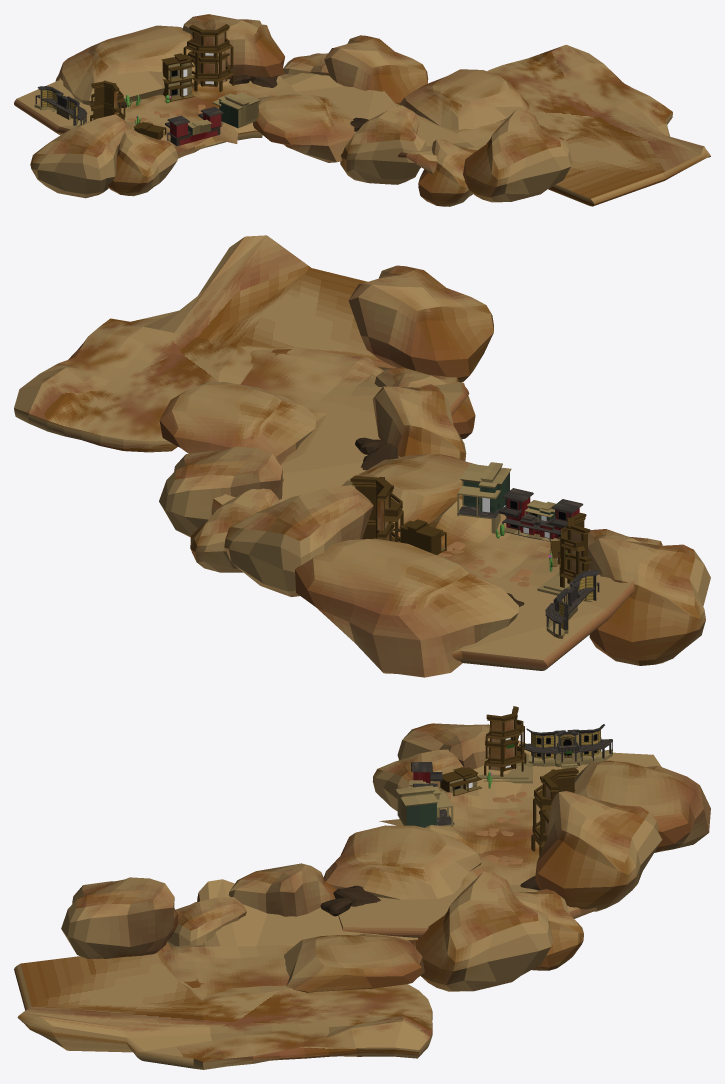
File: mapa.glb
3 views of the same model, one above another, from view 1: azimuth 30°, elevation 25°; view 2: azimuth 150°, elevation 25°; view 3: azimuth 270°, elevation 25° (orthographic). The views are drawn at different scales.
Visible parts, largest first — view 1: Cube.063, Cube.062, Cube.028, Cube.029, Cube.060, Cube.032, Cube.061, Cube.033, Cube.026, Cube.030, Cube.057, Cube.027 (+14 smaller); view 2: Cube.063, Cube.028, Cube.026, Cube.062, Cube.029, Cube.058, Cube.057, Cube.060, Cube.033, Cube.061, Cube.032, Cube.030 (+9 smaller); view 3: Cube.063, Cube.033, Cube.057, Cube.058, Cube.032, Cube.062, Cube.028, Cube.060, Cube.026, Cube.030, Cube.061, Cube.035 (+10 smaller).
Boxes of the visible parts, bbox=[...] form: Cube.063: bbox=[487, 44, 710, 206]; Cube.062: bbox=[463, 109, 572, 202]; Cube.028: bbox=[55, 25, 199, 105]; Cube.029: bbox=[30, 114, 131, 198]; Cube.060: bbox=[399, 69, 529, 129]; Cube.032: bbox=[253, 94, 354, 162]; Cube.061: bbox=[340, 105, 426, 184]; Cube.033: bbox=[324, 35, 428, 104]; Cube.026: bbox=[14, 78, 262, 158]; Cube.030: bbox=[192, 73, 397, 133]; Cube.057: bbox=[182, 14, 284, 79]; Cube.027: bbox=[107, 129, 178, 196]; Cube.063: bbox=[14, 235, 396, 452]; Cube.028: bbox=[295, 538, 518, 677]; Cube.026: bbox=[428, 498, 634, 670]; Cube.062: bbox=[348, 265, 493, 382]; Cube.029: bbox=[588, 537, 710, 665]; Cube.058: bbox=[240, 347, 469, 464]; Cube.057: bbox=[224, 485, 373, 596]; Cube.060: bbox=[159, 382, 316, 464]; Cube.033: bbox=[159, 446, 283, 537]; Cube.061: bbox=[372, 384, 466, 460]; Cube.032: bbox=[341, 454, 476, 531]; Cube.030: bbox=[211, 443, 399, 541]; Cube.063: bbox=[14, 942, 432, 1069]; Cube.033: bbox=[416, 871, 553, 991]; Cube.057: bbox=[535, 791, 662, 911]; Cube.058: bbox=[162, 879, 417, 995]; Cube.032: bbox=[323, 825, 481, 899]; Cube.062: bbox=[61, 877, 177, 958]; Cube.028: bbox=[574, 760, 710, 852]; Cube.060: bbox=[284, 933, 424, 992]; Cube.026: bbox=[379, 740, 661, 853]; Cube.030: bbox=[334, 838, 596, 937]; Cube.061: bbox=[229, 863, 336, 916]; Cube.035: bbox=[519, 724, 612, 768].
Bounding box in the file's own units: 306 × 54.7 × 270.
Materials: 20 (13 with a texture image).
